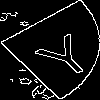Y: (25, 25, 100, 82)
